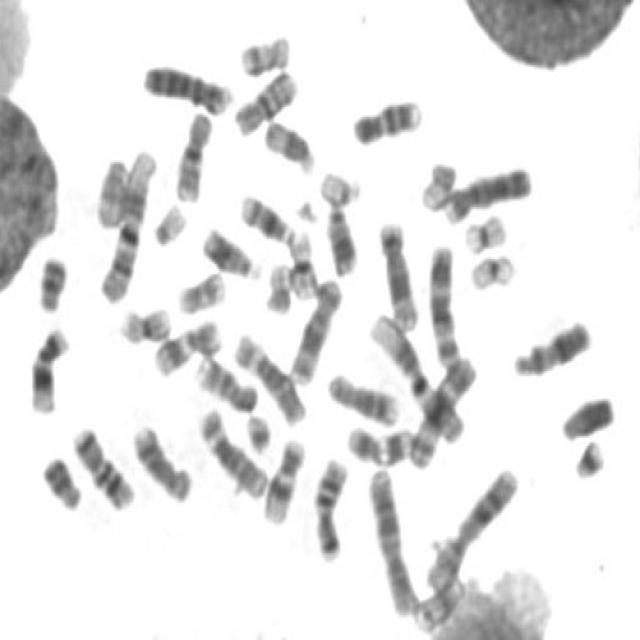A1: (364, 304, 469, 446), (94, 140, 161, 304)
A2: (420, 458, 522, 593), (363, 458, 423, 618)
A3: (405, 346, 480, 469), (423, 234, 467, 371)
B4: (438, 156, 537, 226), (138, 52, 236, 117)
B5: (284, 282, 344, 394), (373, 210, 422, 331)
C10: (228, 58, 302, 138), (169, 100, 217, 204)
C11: (149, 309, 225, 378), (342, 416, 420, 468)
C12: (257, 428, 309, 526), (23, 318, 73, 416)
C6: (229, 324, 309, 426), (194, 398, 272, 500)
C7: (66, 416, 140, 511), (308, 448, 352, 563)
C8: (126, 414, 197, 504), (322, 362, 404, 428)
C9: (190, 346, 262, 413), (348, 87, 427, 147)
D13: (197, 217, 264, 281), (321, 194, 362, 277)
D14: (235, 183, 300, 246), (410, 573, 468, 633)
D15: (260, 108, 320, 176), (91, 147, 134, 229)
E16: (282, 222, 324, 299), (115, 296, 175, 346)
E17: (235, 23, 295, 78), (172, 261, 230, 316)
E18: (37, 446, 86, 511), (32, 246, 71, 314)
F19: (464, 242, 520, 292), (459, 204, 511, 256)
F20: (415, 152, 461, 212), (260, 252, 296, 316)
G21: (568, 429, 610, 482), (242, 406, 278, 453)
G22: (314, 160, 366, 208), (148, 194, 190, 247)
X: (507, 309, 595, 379)
Y: (556, 384, 620, 443)
